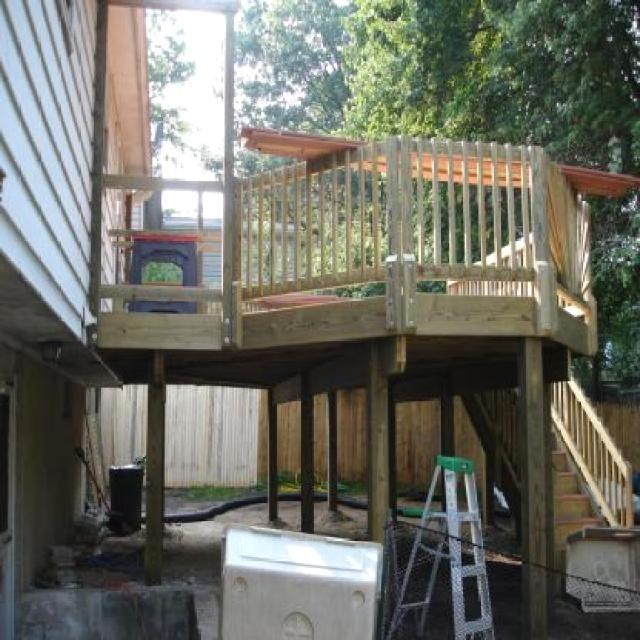stair: (460, 369, 634, 577)
